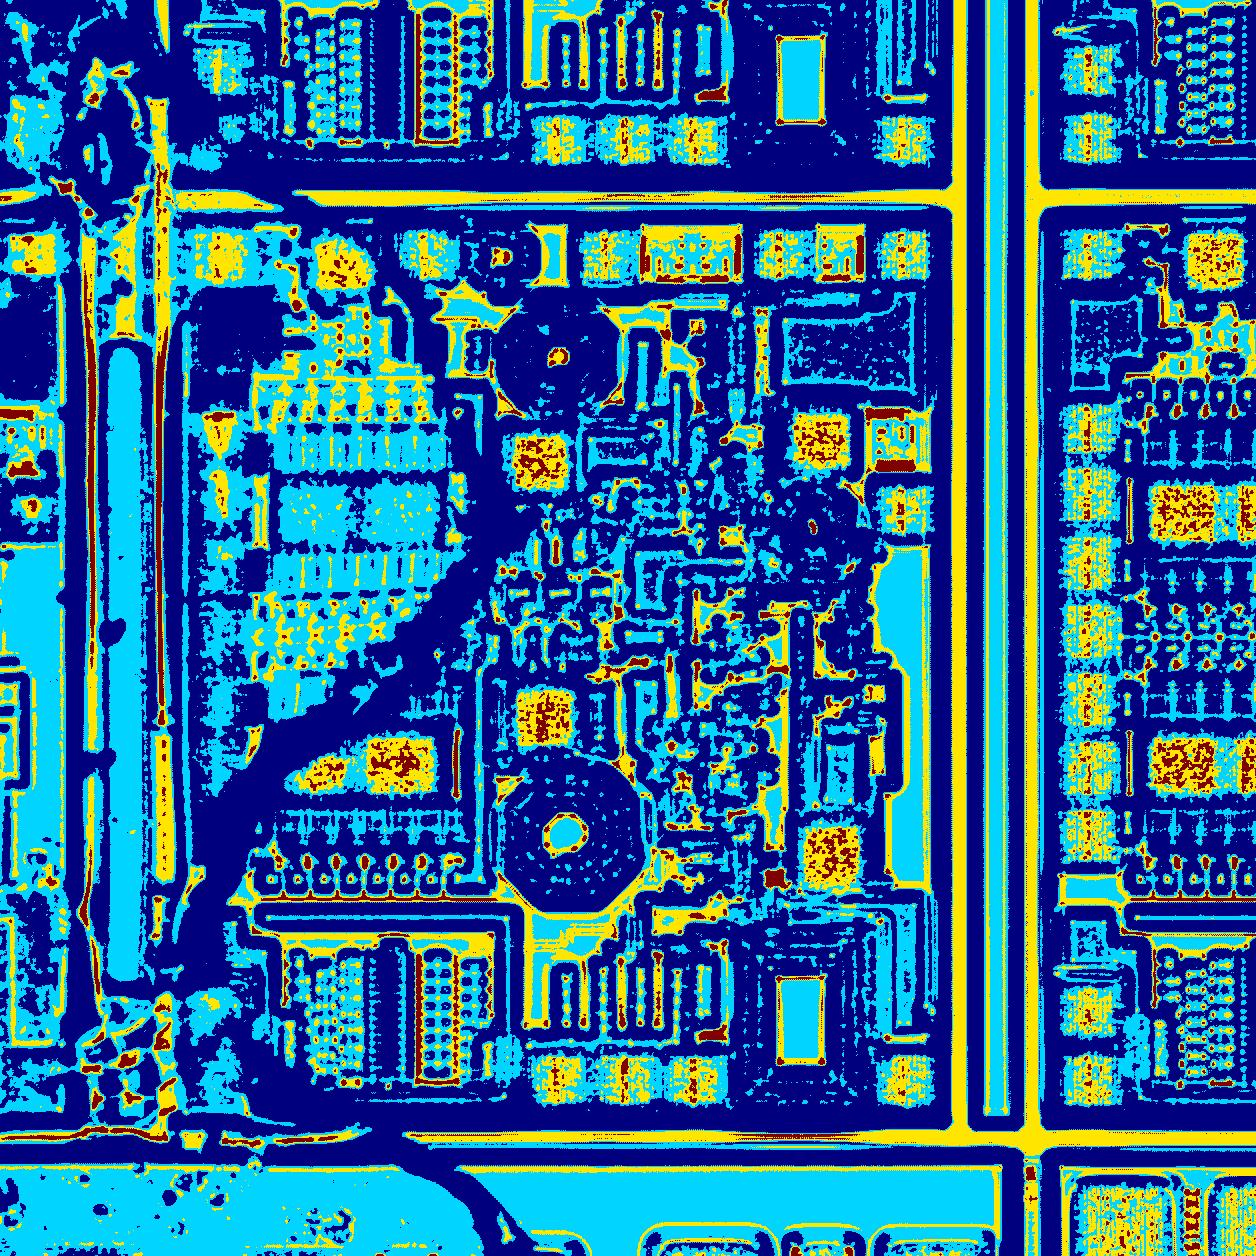Die: (166, 200, 951, 1132)
Pad 1: (366, 737, 434, 794), (282, 737, 346, 792), (804, 826, 859, 889), (282, 487, 346, 538), (373, 487, 435, 539), (516, 690, 574, 746), (316, 233, 374, 290), (792, 414, 849, 469), (512, 435, 568, 489)
Pad 2: (183, 1056, 252, 1117), (184, 981, 247, 1046), (192, 810, 246, 879), (192, 531, 245, 596), (193, 738, 246, 803), (192, 674, 245, 736), (193, 605, 245, 664), (192, 466, 245, 522), (193, 404, 245, 461), (668, 1056, 726, 1106), (194, 232, 248, 285), (596, 1055, 653, 1104), (583, 231, 638, 281), (531, 1056, 585, 1104), (881, 1056, 930, 1106), (881, 485, 929, 535), (407, 232, 457, 279), (759, 231, 804, 279), (881, 232, 926, 278)
